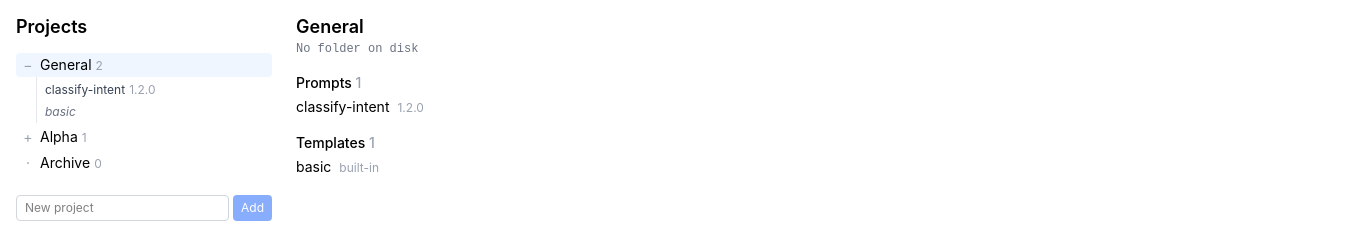
Test: Projects › switches to another project from the tree
Expected: the heading "General" is shown, 296,16 -> 364,37
Click the button "Alpha1" at (154, 137), box 40,125 -> 268,149
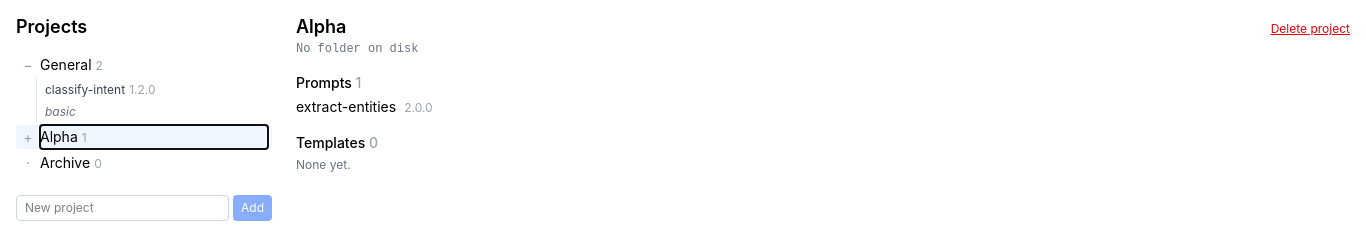
Result: the heading "Alpha" is shown at 296,16 -> 346,37
Result: the link "extract-entities" is shown at 296,98 -> 396,115
